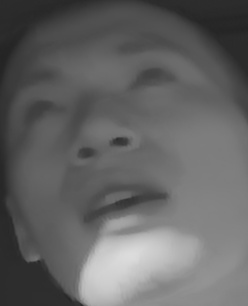eye: (21, 93, 69, 127), (126, 66, 181, 94)
mouth: (75, 167, 176, 235)
